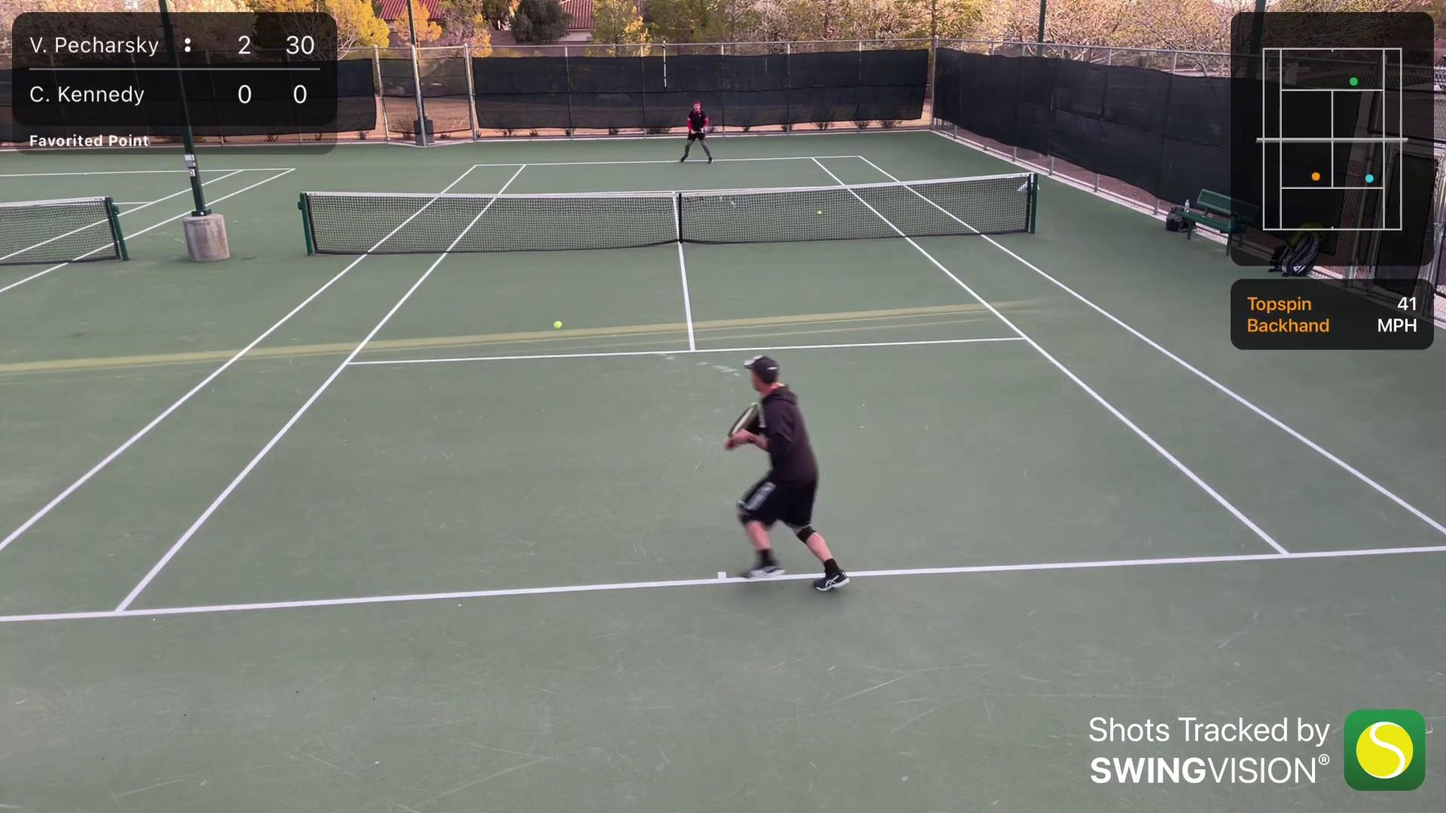ball: (552, 317, 563, 332), (816, 209, 823, 216)
